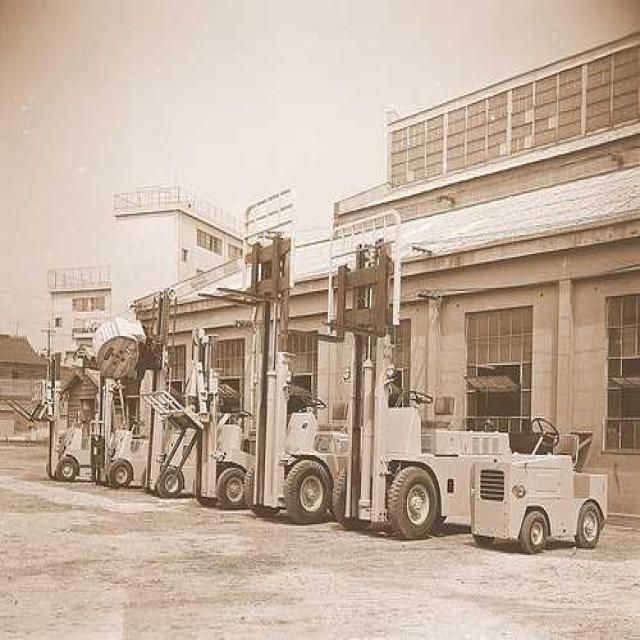forklift: (337, 233, 509, 534), (248, 232, 341, 525), (148, 285, 199, 499), (198, 330, 256, 510), (96, 315, 151, 489), (45, 373, 100, 483)
